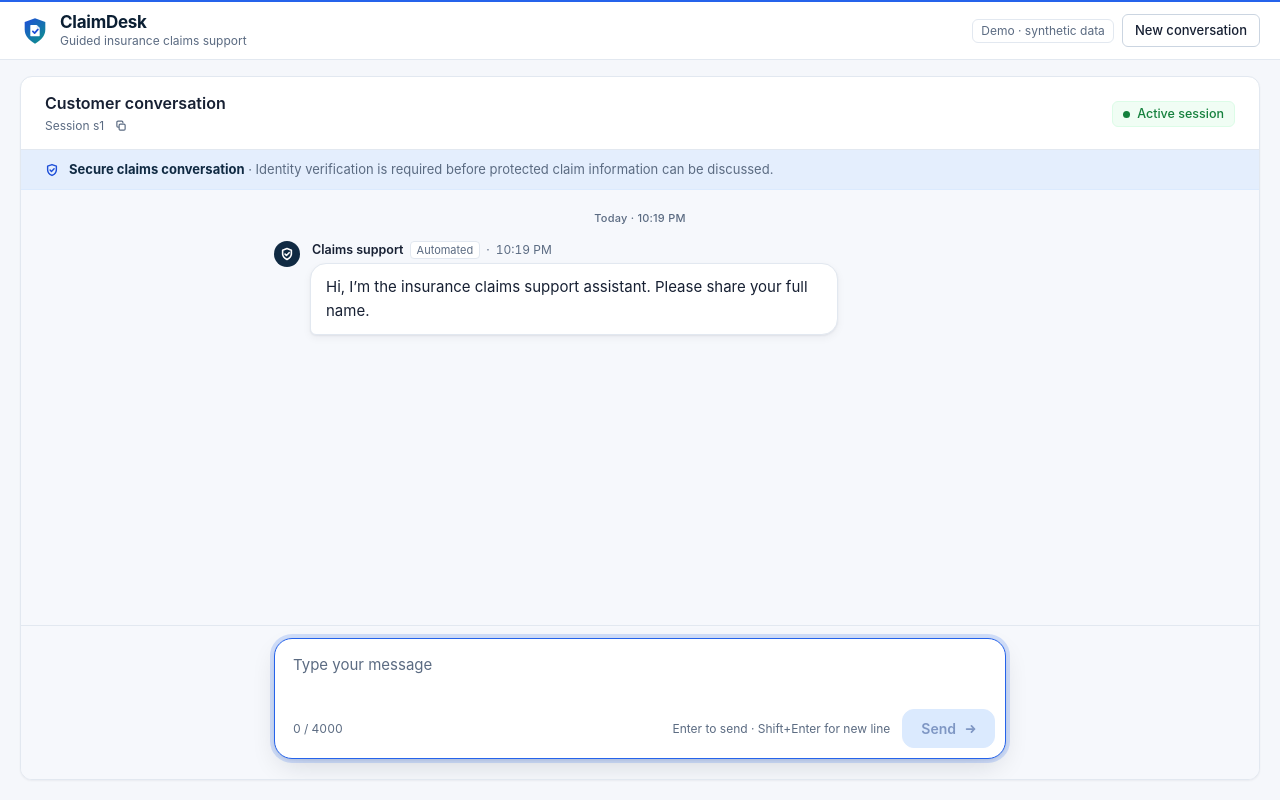
it: sending messages › shows replies as plain text, never as HTML
Expected: the text "Hi, I’m the insurance claims support assistant. Please share your full name." is shown, [326,275,822,323]
Type "hello" into the text box labelled "your message" at point(640, 671), box [275,639,1005,703]
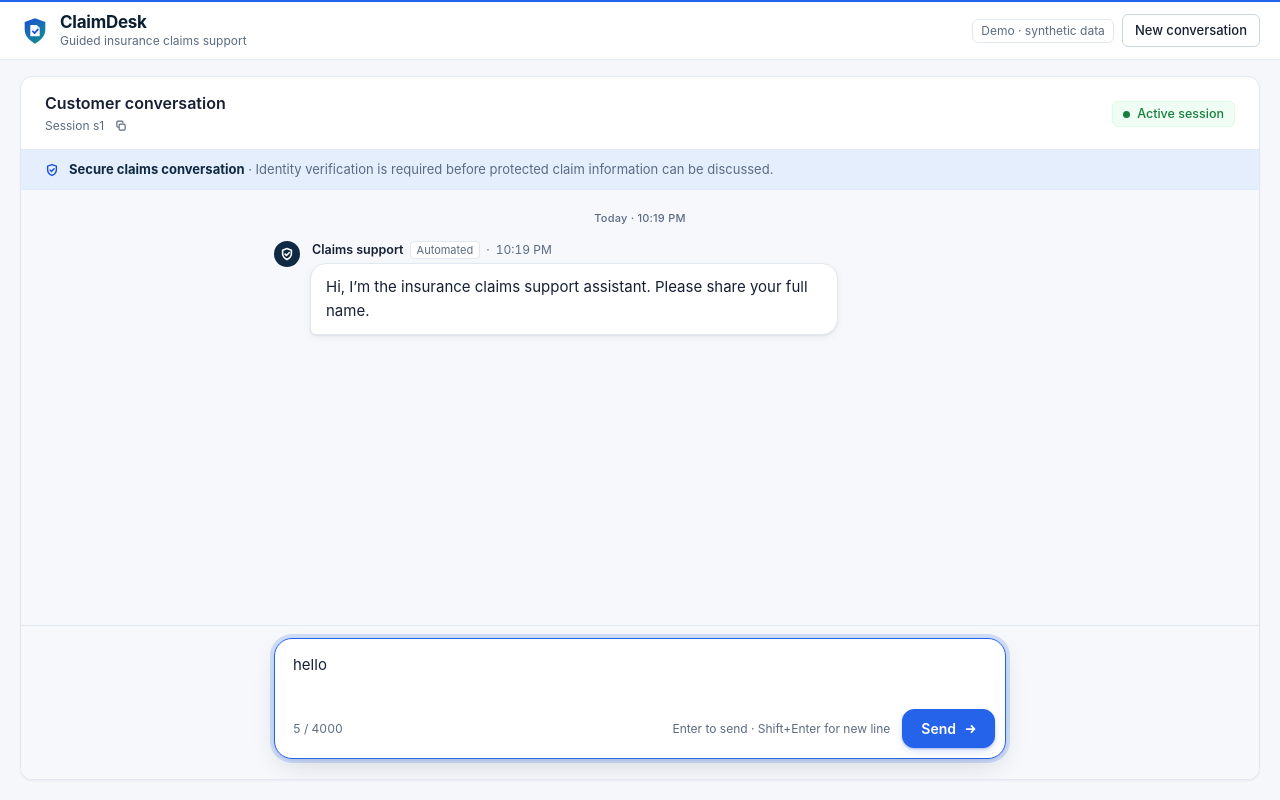
Click the button "Send" at point(949, 728), box [902,709,995,748]
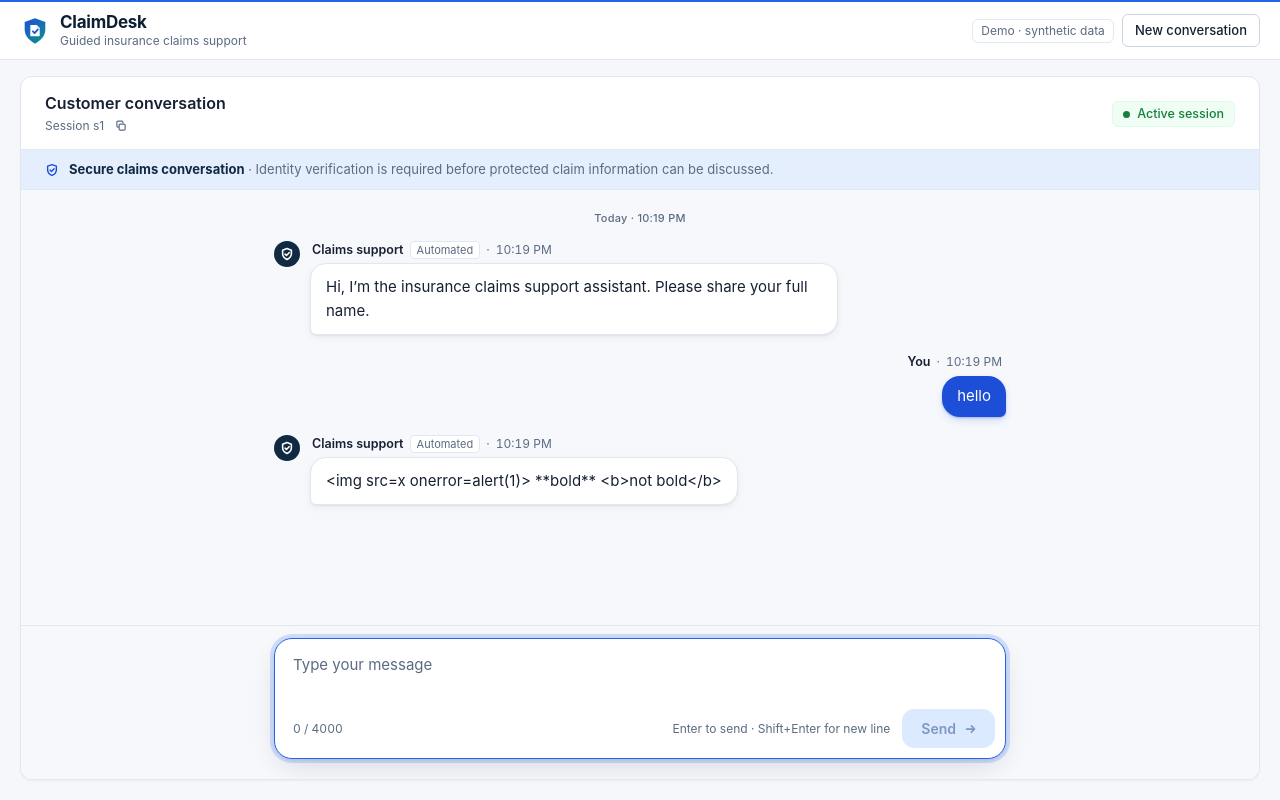
Expected: the text "<img src=x onerror=alert(1)> **bold** <b>not bold</b>" is shown, [326,469,722,493]
